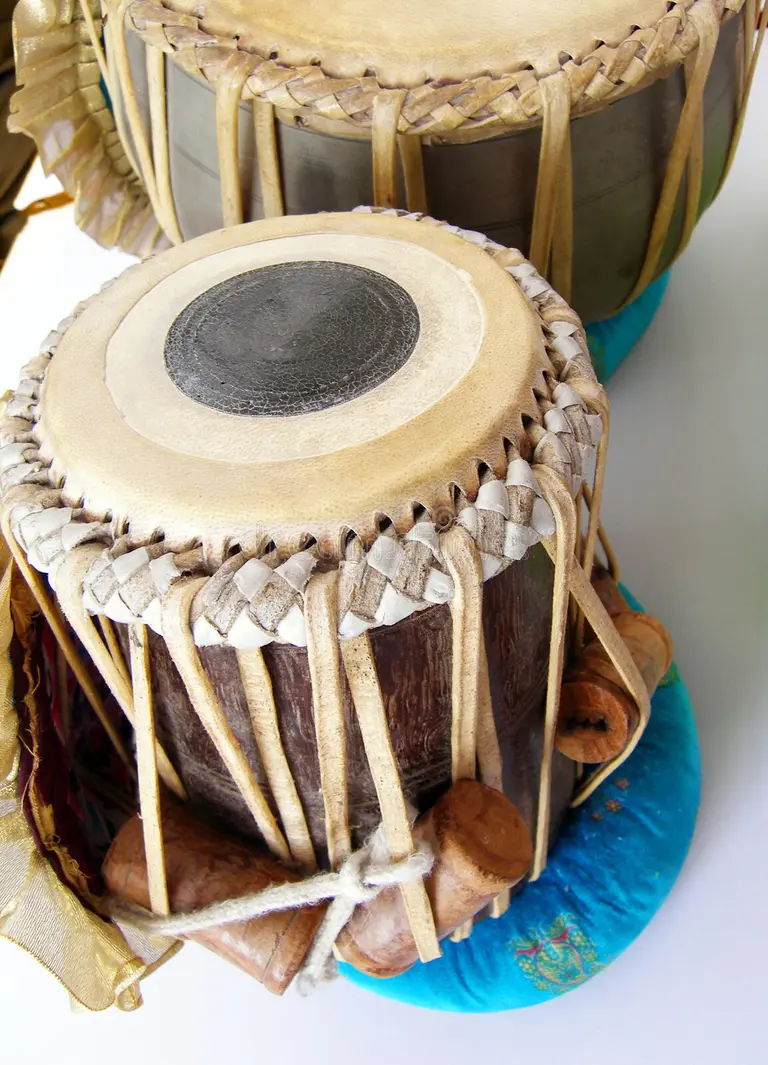tabla: (96, 2, 750, 299), (9, 210, 607, 505)
